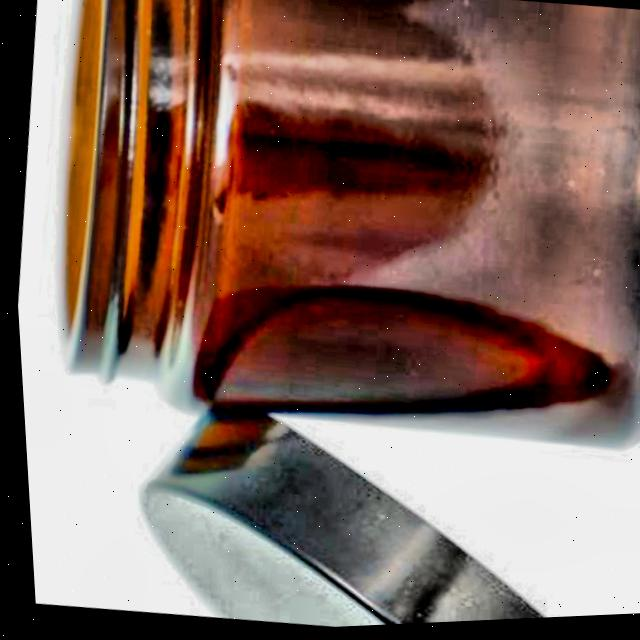glass: (52, 0, 640, 456)
